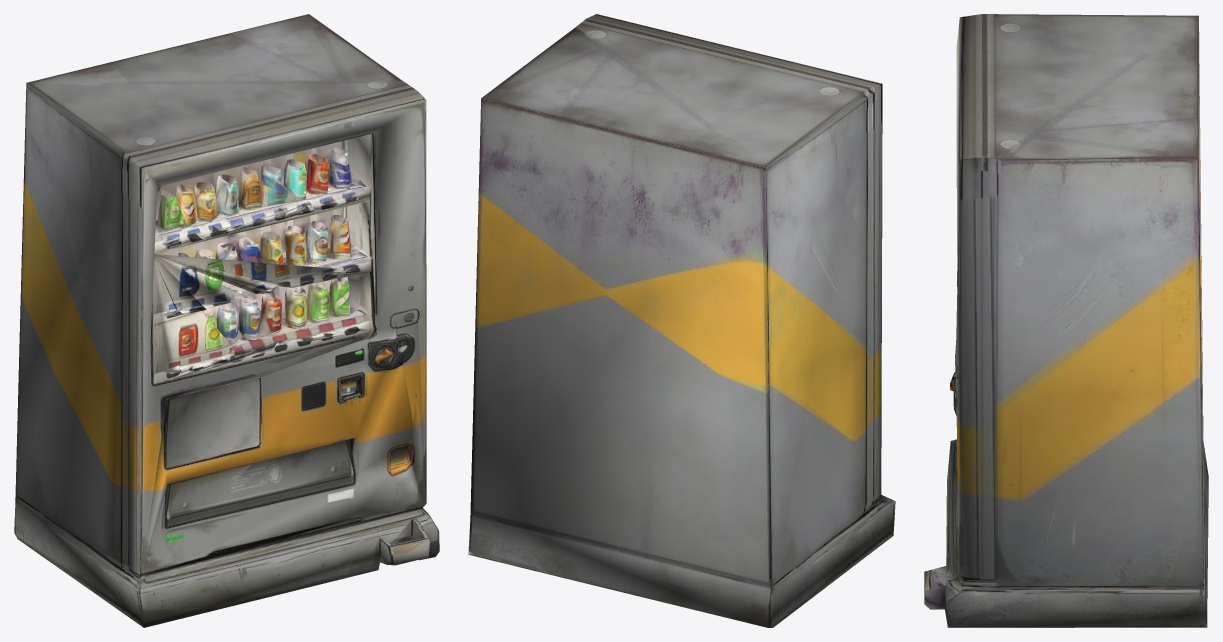
File: vending.glb
3 views of the same model, side by side, from view 1: azimuth 30°, elevation 25°; view 2: azimuth 150°, elevation 25°; view 3: azimuth 270°, elevation 25° (orthographic). The views are drawn at different scales.
Parts seen in each view (by area): view 1: Mesh_0; view 2: Mesh_0; view 3: Mesh_0.
Part boxes in pixels (box(x1,y1,x2,y2)): Mesh_0: box(14, 14, 439, 627); Mesh_0: box(468, 14, 895, 627); Mesh_0: box(924, 14, 1208, 627).
Size of the model in its own units: 1.31 by 1.9 by 1.04.
Materials: 1 (1 with a texture image).
